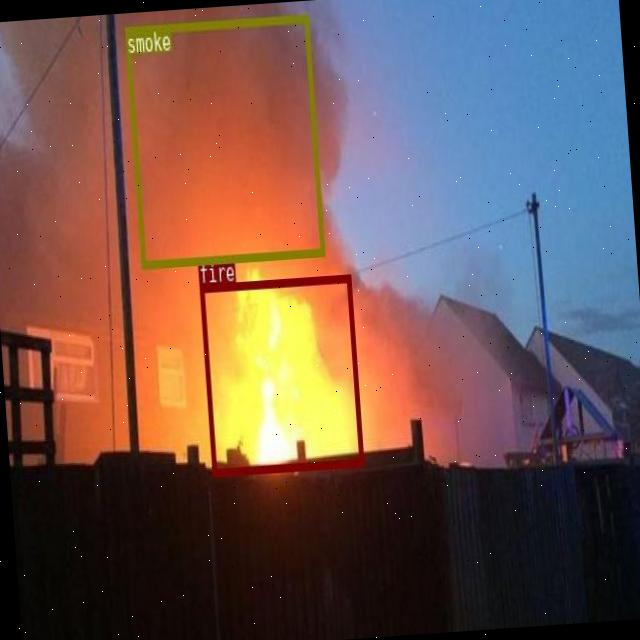fire: (198, 273, 363, 474)
smoke: (124, 12, 324, 268)
